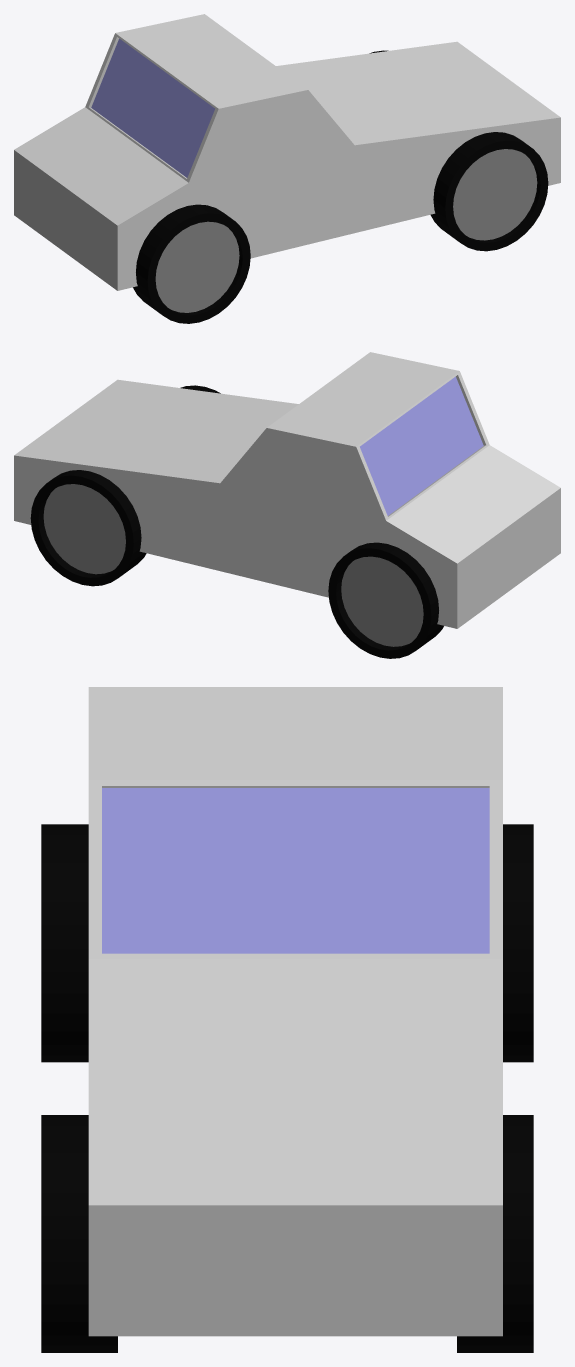
The model's file is dlr_tmp_car_model.dae.
3 renders of one model, top to bottom at view 1: azimuth 30°, elevation 25°; view 2: azimuth 150°, elevation 25°; view 3: azimuth 270°, elevation 25°, orthographic. The views are drawn at different scales.
Parts seen in each view (by area): view 1: DLR_Car; view 2: DLR_Car; view 3: DLR_Car.
Boxes of the visible parts, x1,y1,x2,y2 form: DLR_Car: (14, 14, 560, 323); DLR_Car: (14, 352, 560, 658); DLR_Car: (41, 687, 533, 1352).
Size of the model in its own units: 4.94 by 2.38 by 2.1.
